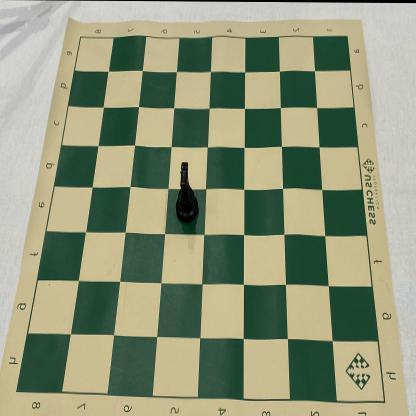black-knight: (176, 161, 199, 223)
